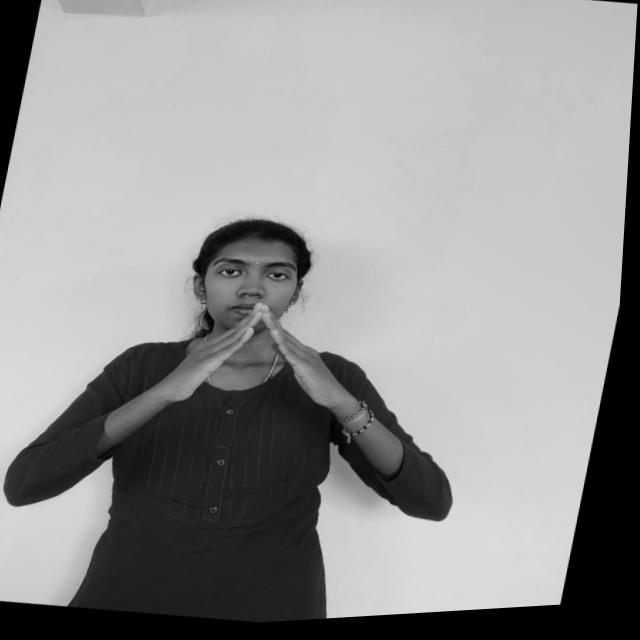Home: (148, 277, 379, 444)
